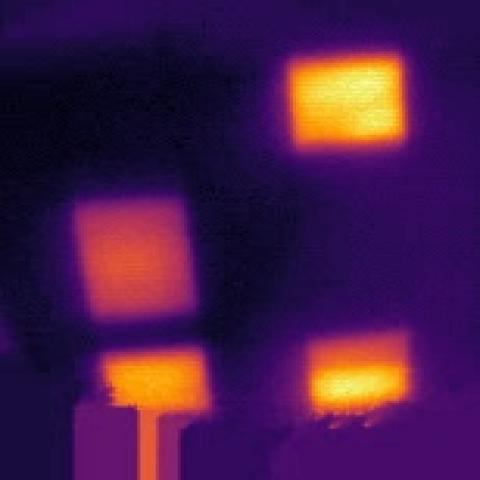fault: (66, 188, 208, 323), (280, 47, 416, 154), (289, 330, 414, 431), (94, 340, 222, 424)
